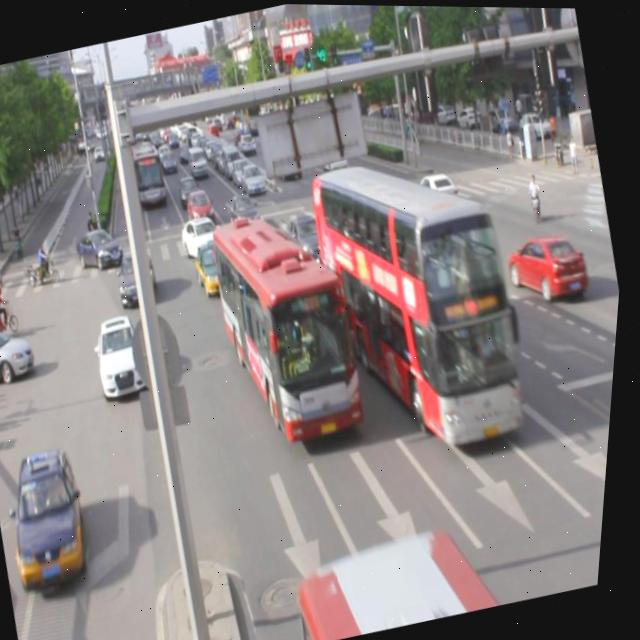car: (2, 441, 110, 596), (502, 221, 596, 305), (92, 309, 159, 399), (114, 241, 167, 310), (282, 205, 337, 269), (191, 234, 243, 294), (179, 211, 230, 261)
van: (294, 134, 548, 467), (200, 198, 384, 449), (298, 508, 531, 640)
